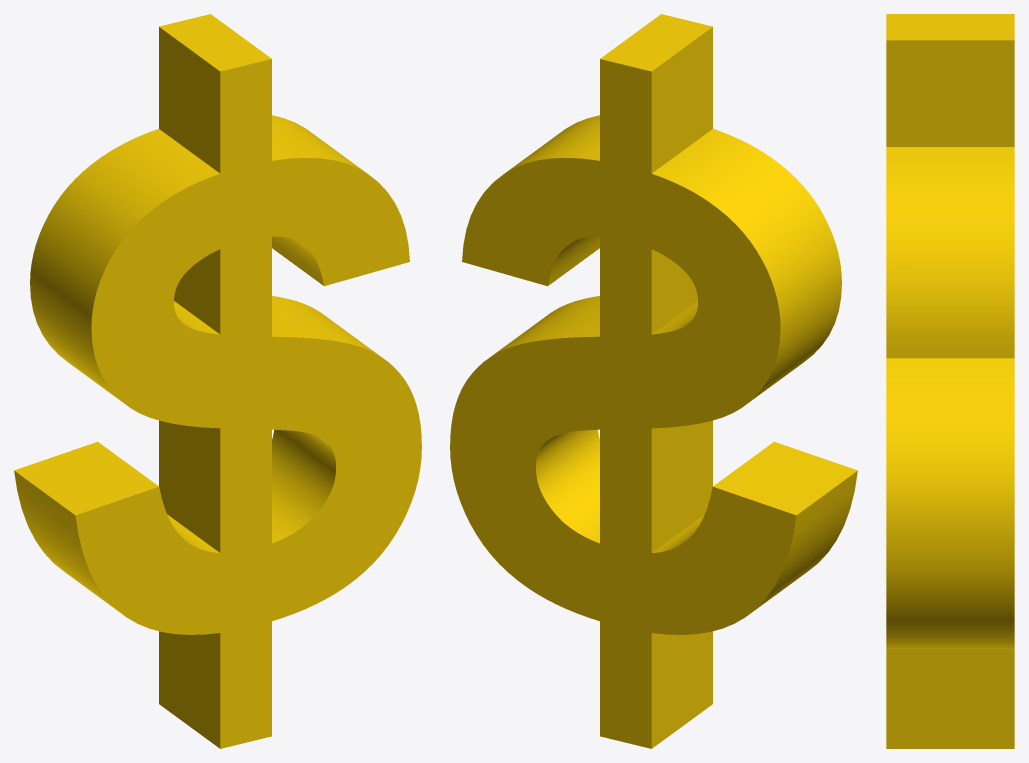
File: dollar.fbx
3 views of the same model, side by side, from view 1: azimuth 30°, elevation 25°; view 2: azimuth 150°, elevation 25°; view 3: azimuth 270°, elevation 25° (orthographic). The views are drawn at different scales.
Parts seen in each view (by area): view 1: Default; view 2: Default; view 3: Default.
Part boxes in pixels (<box>): Default: <box>14,14,421,748</box>; Default: <box>450,14,857,748</box>; Default: <box>886,14,1014,748</box>.
Size of the model in its own units: 52.1 by 97.34 by 16.
